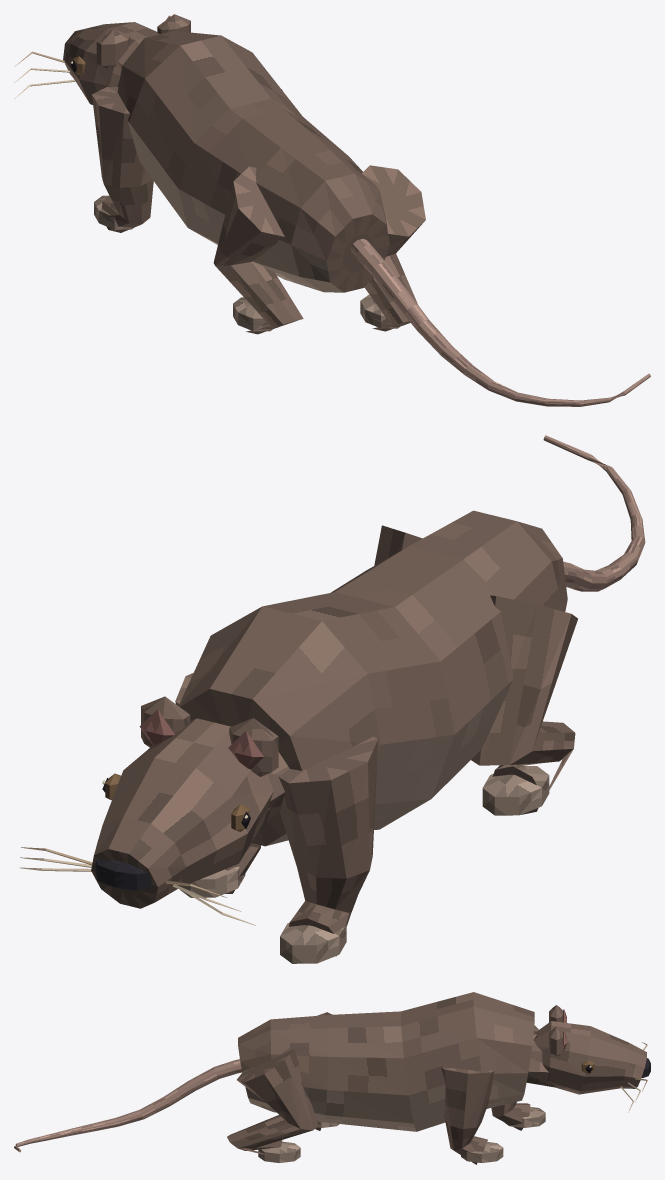
The model's file is mon_sewer_rat.glb.
3 views of the same model, one above another, from view 1: azimuth 30°, elevation 25°; view 2: azimuth 150°, elevation 25°; view 3: azimuth 270°, elevation 25° (orthographic). The views are drawn at different scales.
Visible parts, largest first — view 1: closed_body; view 2: closed_body; view 3: closed_body.
Boxes of the visible parts, <box> form: closed_body: <box>14,14,650,406</box>; closed_body: <box>20,435,645,963</box>; closed_body: <box>14,992,650,1164</box>.
Size of the model in its own units: 0.1546 by 0.1374 by 0.5331.
Materials: 1 (1 with a texture image).
